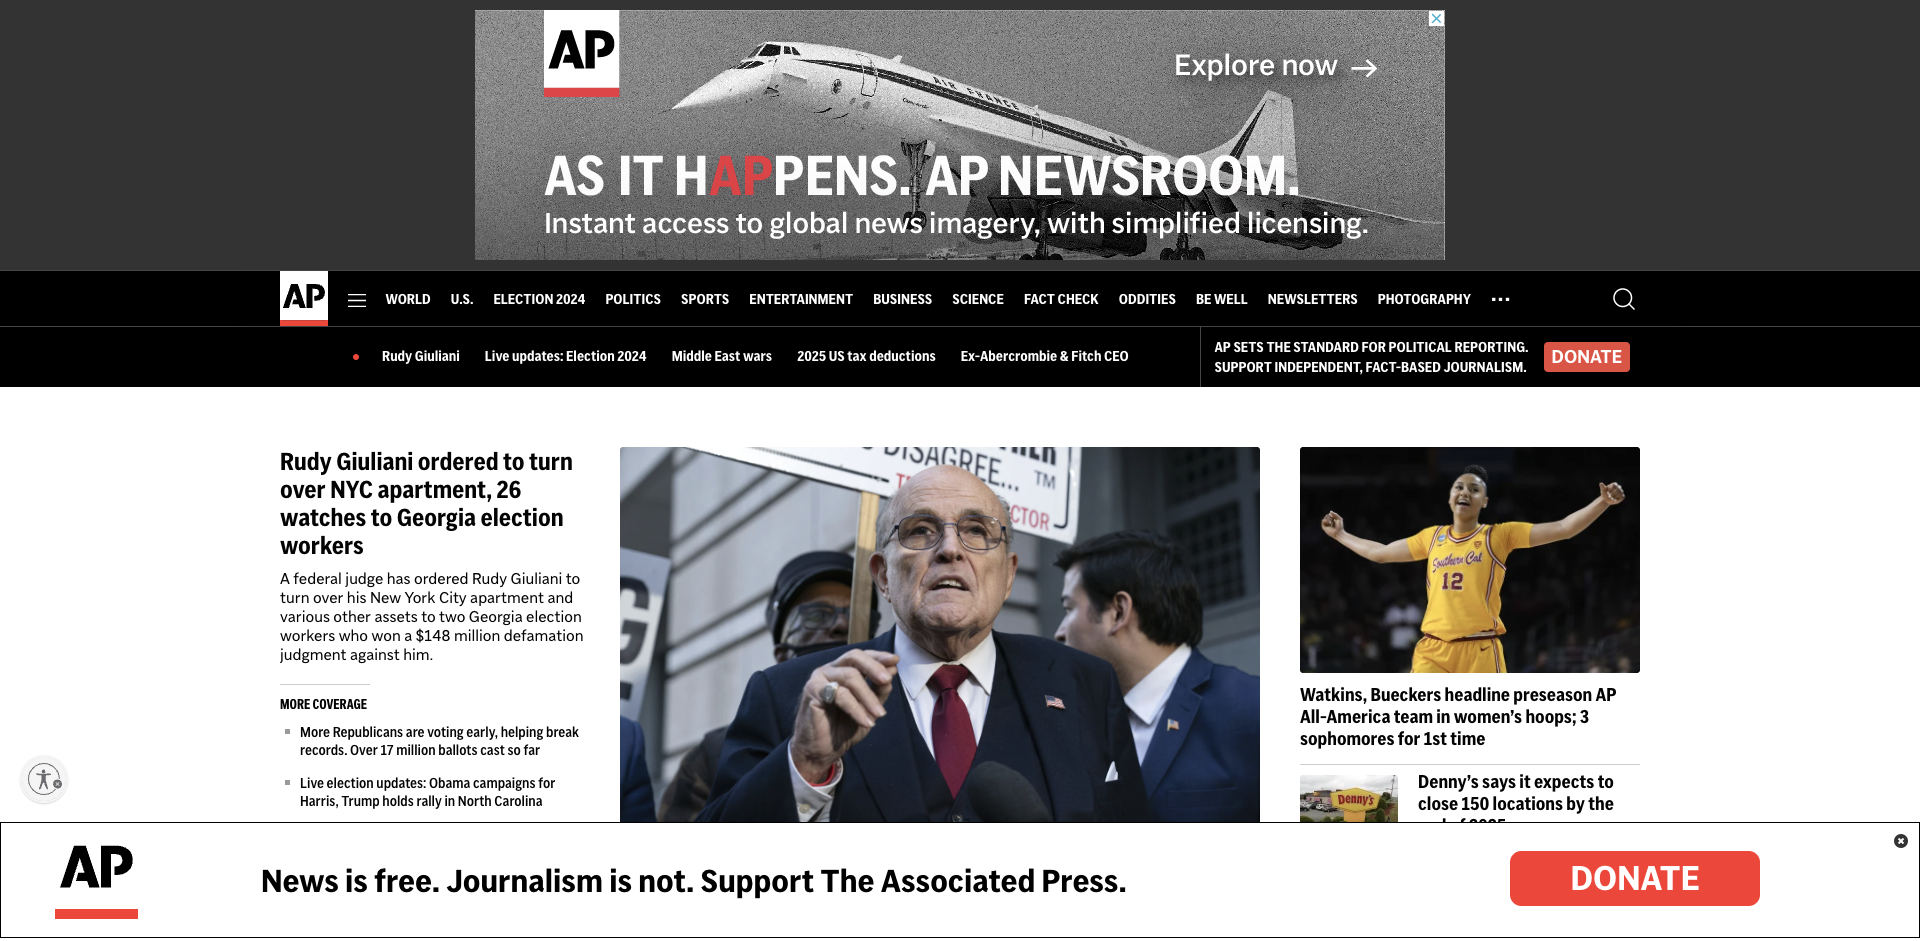button: (1510, 852, 1761, 905), (1544, 342, 1630, 372), (1480, 271, 1522, 332), (327, 278, 387, 319), (1588, 278, 1640, 319), (1479, 374, 1501, 398), (1479, 456, 1501, 480), (1479, 500, 1501, 524)
link: (620, 447, 1260, 874), (1300, 447, 1640, 674), (280, 444, 573, 562), (280, 569, 584, 665), (1300, 681, 1616, 751), (640, 822, 1217, 860), (1418, 871, 1632, 941), (1418, 768, 1614, 838), (300, 825, 595, 863), (300, 723, 579, 761), (300, 773, 556, 811), (240, 282, 453, 315), (1300, 776, 1398, 842), (1300, 879, 1398, 941), (240, 282, 397, 315), (240, 282, 381, 315), (740, 282, 863, 315), (240, 282, 361, 315), (1368, 282, 1480, 315), (484, 282, 595, 315), (1258, 282, 1368, 315), (961, 346, 1134, 366), (1292, 620, 1485, 638), (485, 346, 651, 366), (240, 282, 342, 315), (1014, 282, 1109, 315), (797, 346, 940, 366), (240, 282, 323, 315), (863, 282, 943, 315), (280, 271, 327, 326), (240, 282, 317, 315), (595, 282, 671, 315), (1109, 282, 1185, 315), (240, 282, 316, 315), (1292, 658, 1428, 676), (240, 282, 313, 315), (1185, 282, 1258, 315), (943, 282, 1014, 315), (20, 755, 69, 803), (671, 282, 740, 315), (240, 282, 307, 315), (1292, 336, 1412, 354), (672, 346, 778, 366), (376, 282, 441, 315), (1292, 696, 1393, 714), (240, 282, 293, 315), (382, 346, 465, 366), (280, 936, 588, 941), (1292, 734, 1373, 752), (441, 282, 484, 315), (1292, 504, 1356, 521), (1292, 544, 1348, 562), (1292, 582, 1347, 600), (1292, 377, 1344, 395), (1292, 418, 1338, 436), (1292, 459, 1324, 477)
